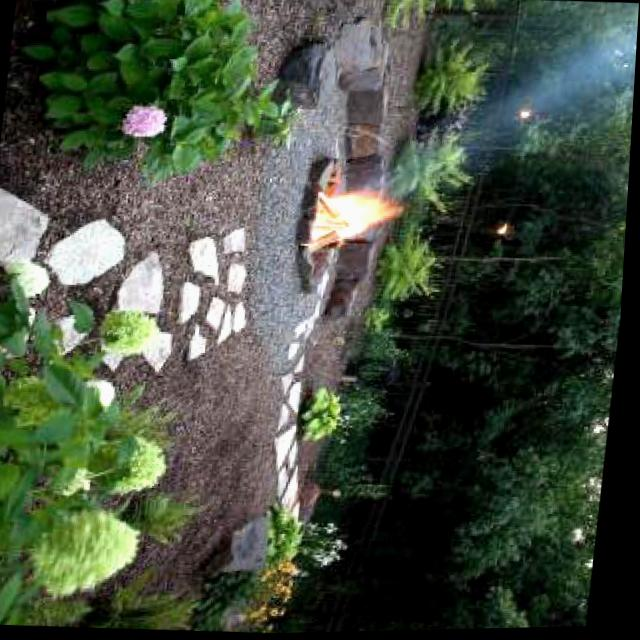helmet: (316, 185, 400, 251)
